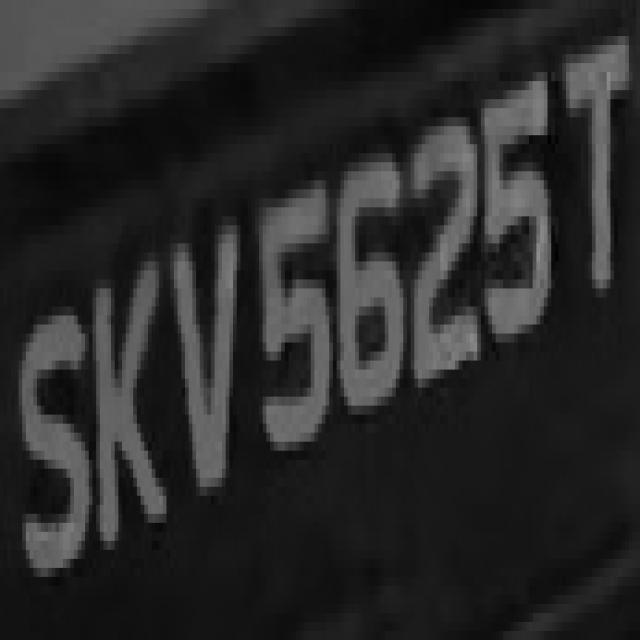2: (396, 108, 488, 415)
5: (470, 54, 555, 361), (252, 171, 326, 469)
6: (333, 108, 407, 415)
K: (81, 243, 159, 559)
S: (19, 288, 85, 595)
T: (3, 0, 4, 5)
V: (159, 180, 241, 505)
